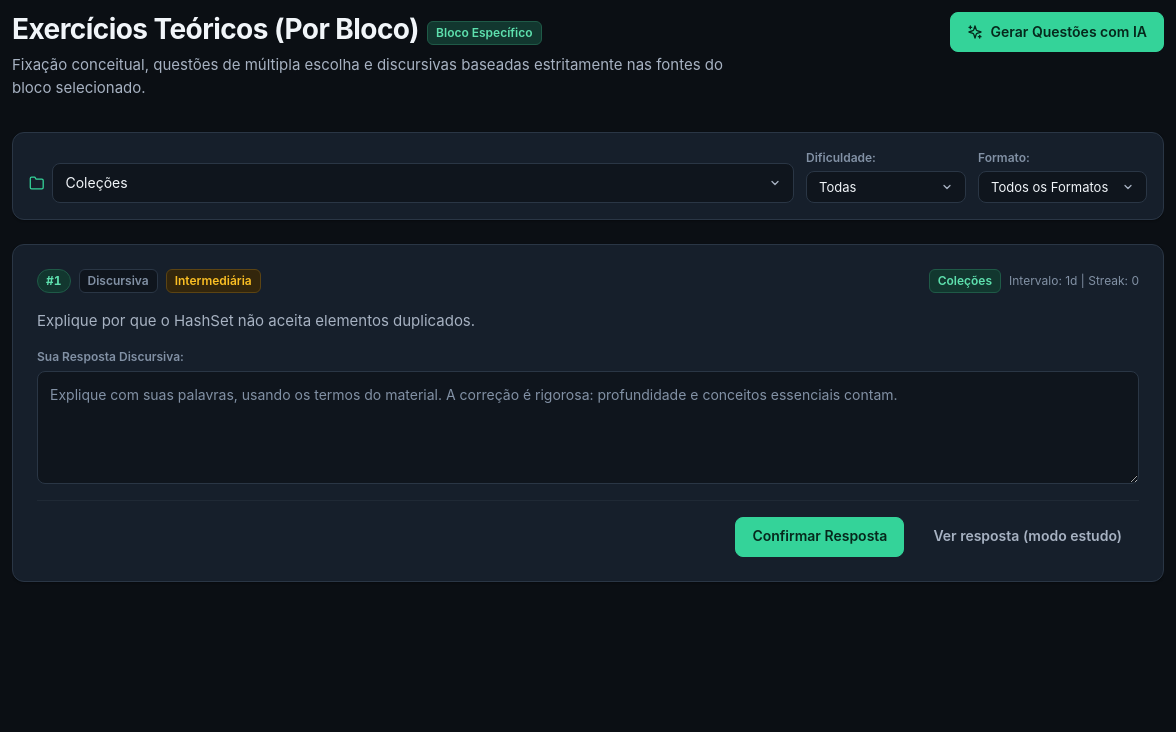
Scenario: TheoreticalQuestionsPage — questão aberta › resposta pendente (sem IA) avisa e oferece reavaliar, sem mostrar a resposta-modelo
The width and height of the screenshot is (1176, 732).
Type "Usa hashCode e equals." into the text box at (588, 427), box [37,371,1139,484]
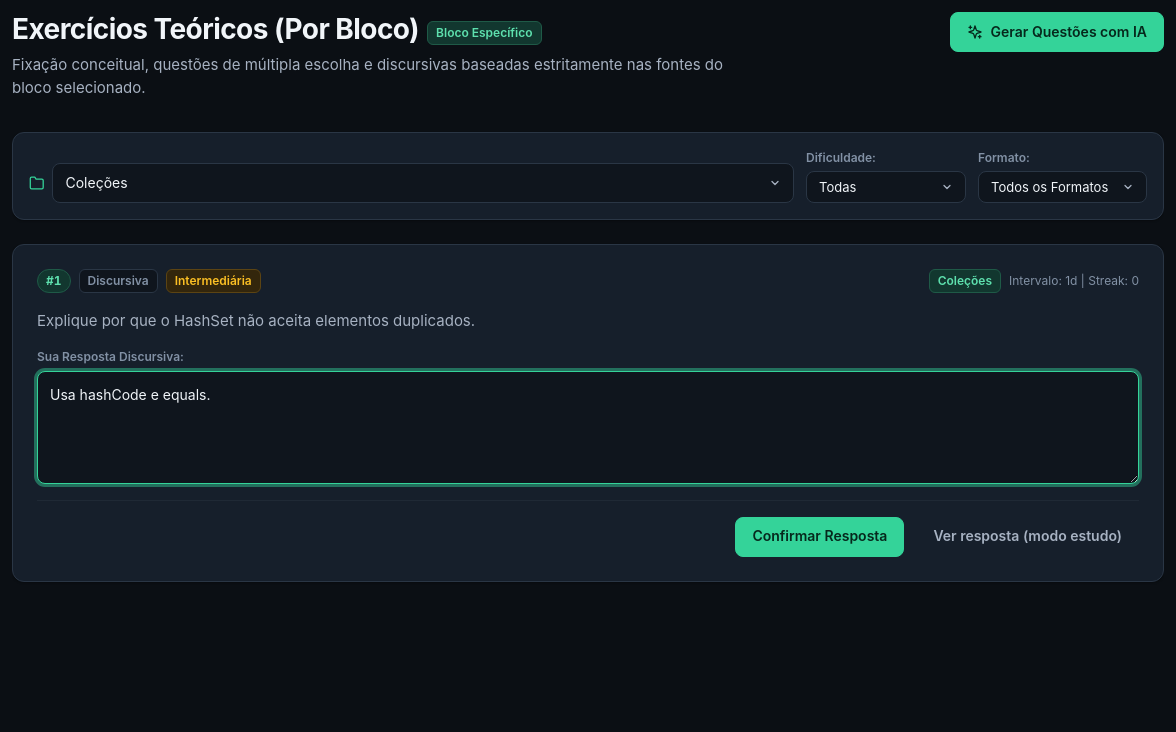
Click the button "Confirmar Resposta" at (820, 537), box [735,517,904,557]
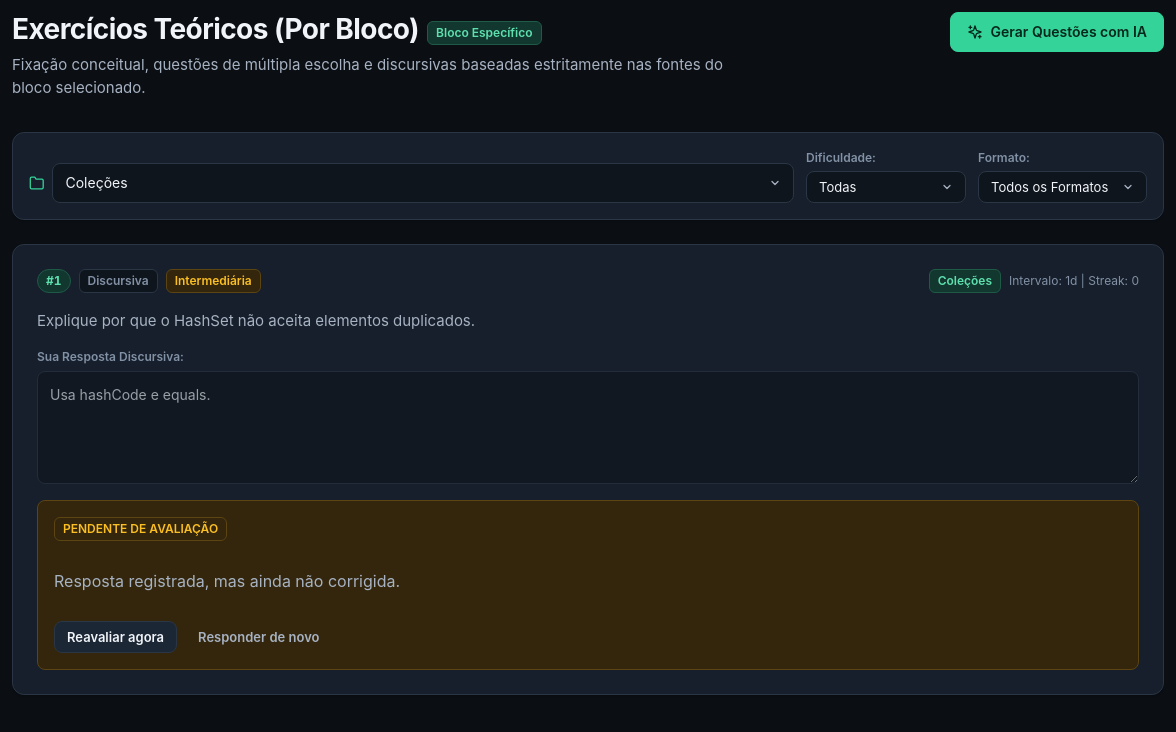
Now the text "PENDENTE DE AVALIAÇÃO" is shown, box [54,517,227,541]
Now the text "Resposta registrada, mas ainda não corrigida." is shown, box [54,571,400,591]
Now the button "Reavaliar agora" is shown, box [54,622,177,654]
